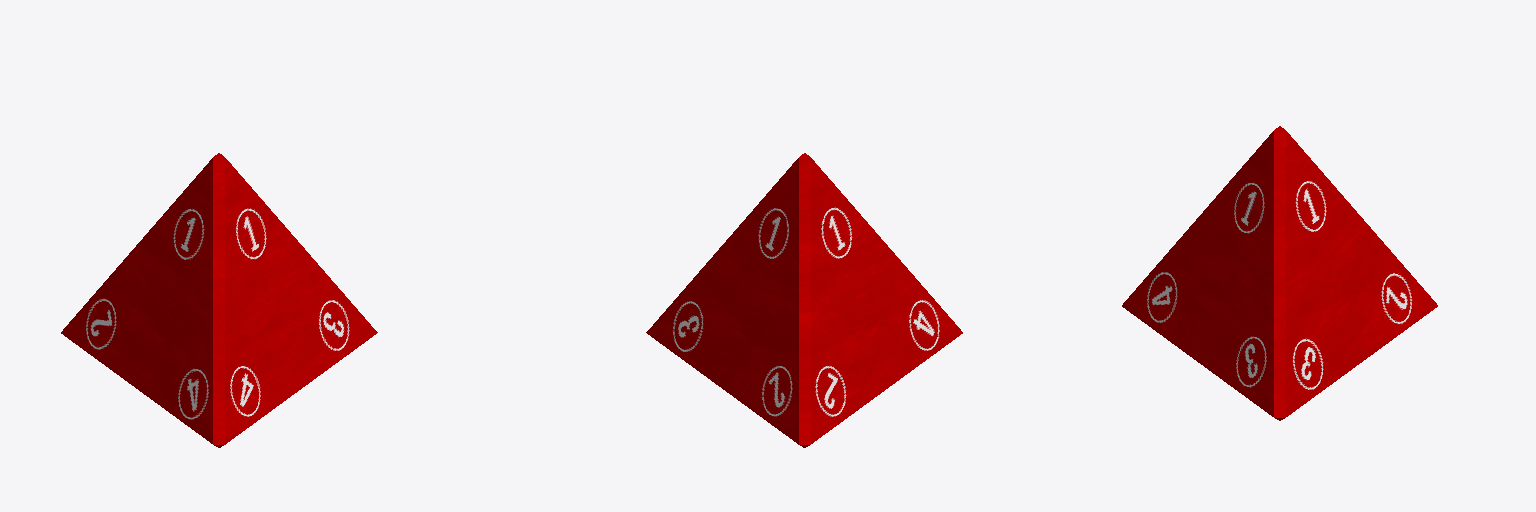
3 views of the same model, side by side, from view 1: azimuth 30°, elevation 25°; view 2: azimuth 150°, elevation 25°; view 3: azimuth 270°, elevation 25° (orthographic).
Visible parts, largest first — view 1: obj3; view 2: obj3; view 3: obj3.
Boxes of the visible parts, x1=… form: obj3: x1=61, y1=153, x2=377, y2=447; obj3: x1=646, y1=153, x2=962, y2=447; obj3: x1=1122, y1=126, x2=1437, y2=420.
Bounding box in the file's own units: 36.23 × 31.8 × 41.84.
1 materials, 1 textured.